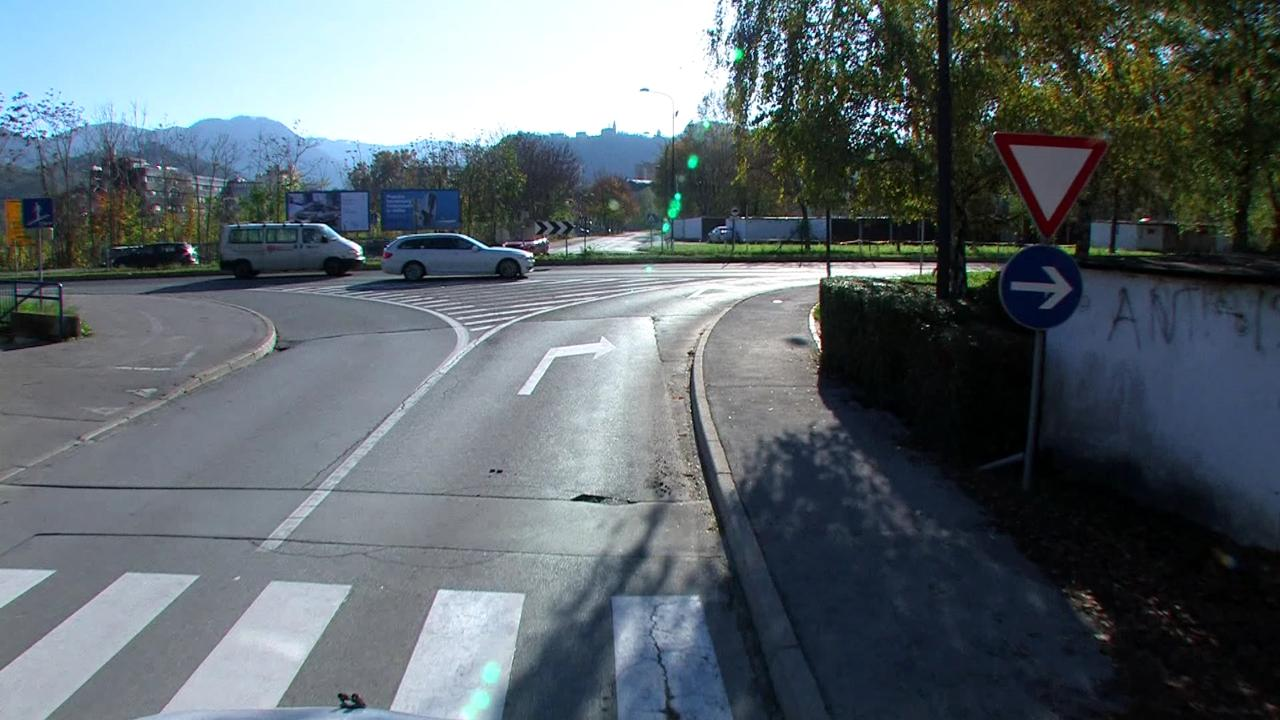Round: (1001, 244, 1083, 330)
Squared: (20, 197, 56, 229)
Triangle: (991, 129, 1111, 243)
